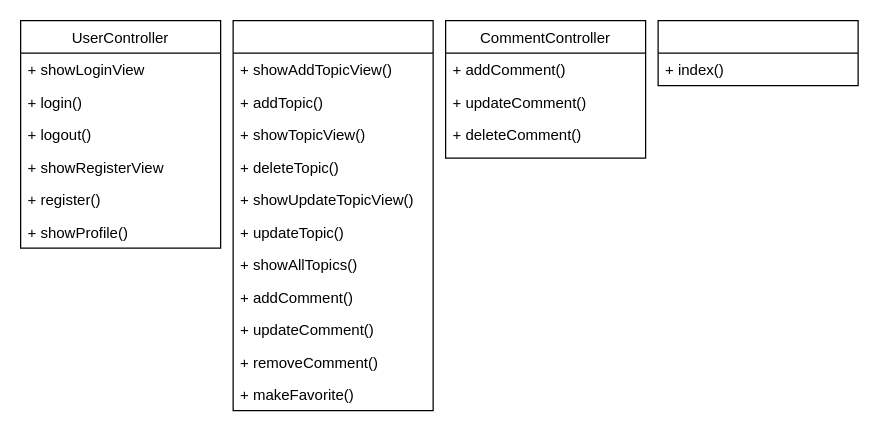
Image size: 879x431. Some labels were removed from this diagram. The shapes that lost their labels are listed below. From the top down, each one's box as (x1, y1, x2, y2) in pixels, then its label:
(657, 19, 858, 86): IndexController
(232, 19, 433, 411): TopicController
